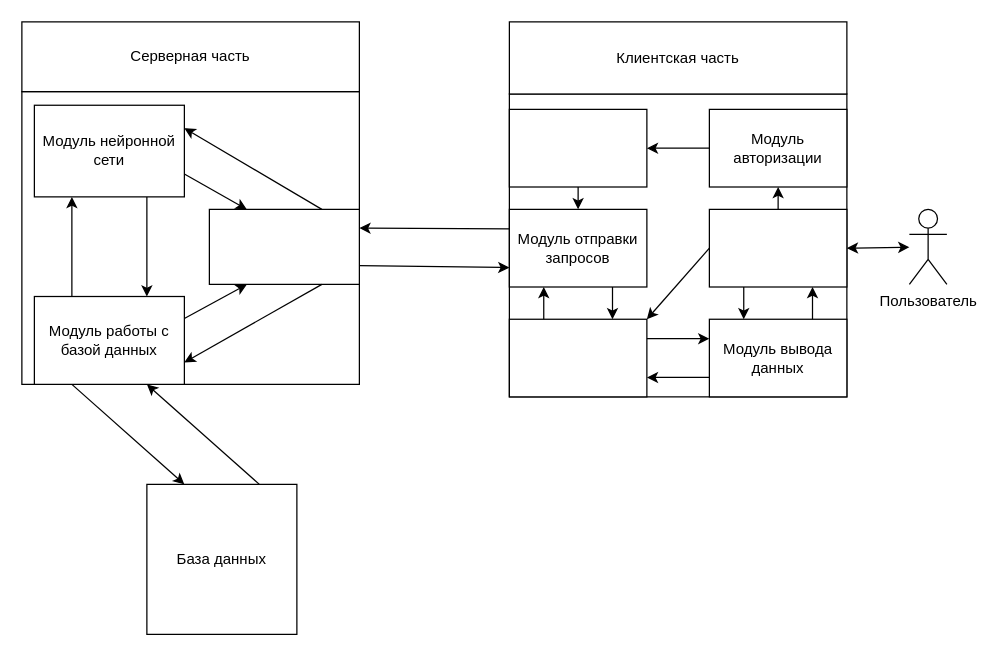
Some shapes in this 999 by 656 pixel diagram are drawn without their labels. Each missing label, with the centre of its shape:
Модуль обработки запросов: the point at 283,246
Модуль отрисовки интерфейса: the point at 777,247
Модуль регистрации: the point at 577,147
Модуль формирования рекомендаций: the point at 577,357
